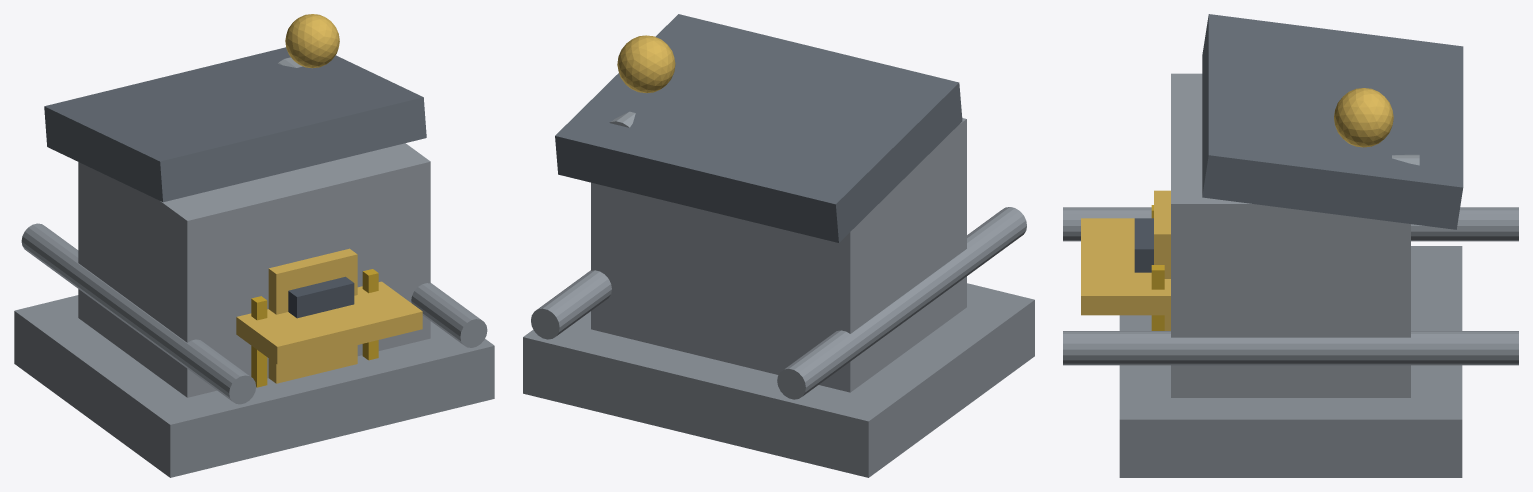
File: bitcoin_atm.glb
3 renders of one model, left to right at view 1: azimuth 30°, elevation 25°; view 2: azimuth 150°, elevation 25°; view 3: azimuth 270°, elevation 25°, orthographic. The views are drawn at different scales.
Visible parts, largest first — view 1: world; view 2: world; view 3: world.
Boxes of the visible parts, bbox=[...] form: world: bbox=[14, 14, 494, 477]; world: bbox=[523, 14, 1034, 477]; world: bbox=[1063, 14, 1518, 477].
Size of the model in its own units: 0.96 by 0.9548 by 1.06.
